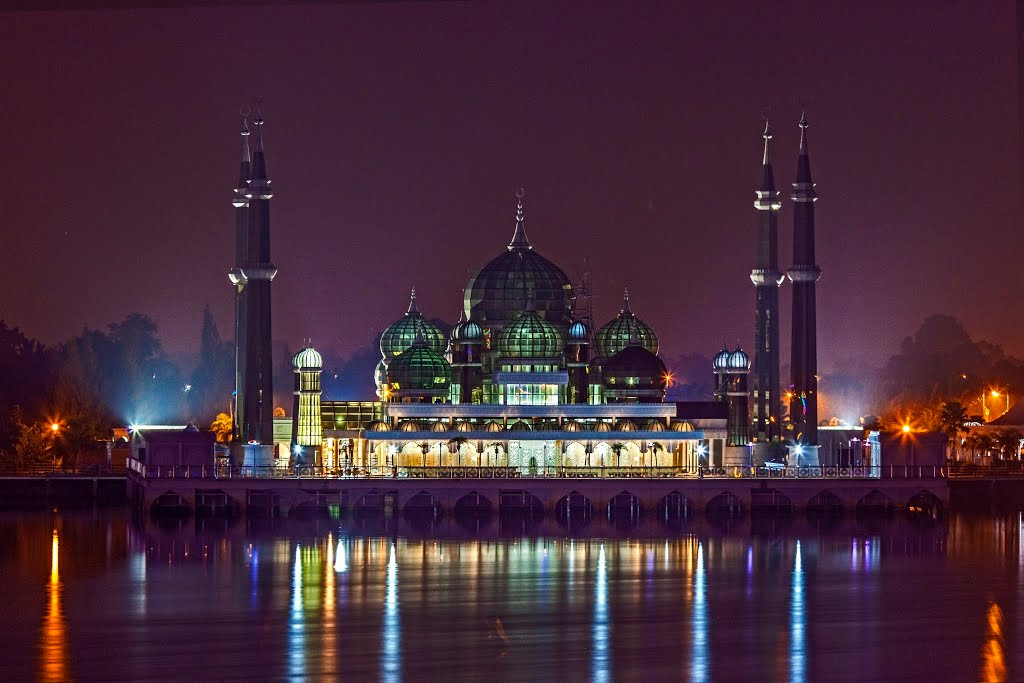Mosque: (196, 97, 836, 456)
